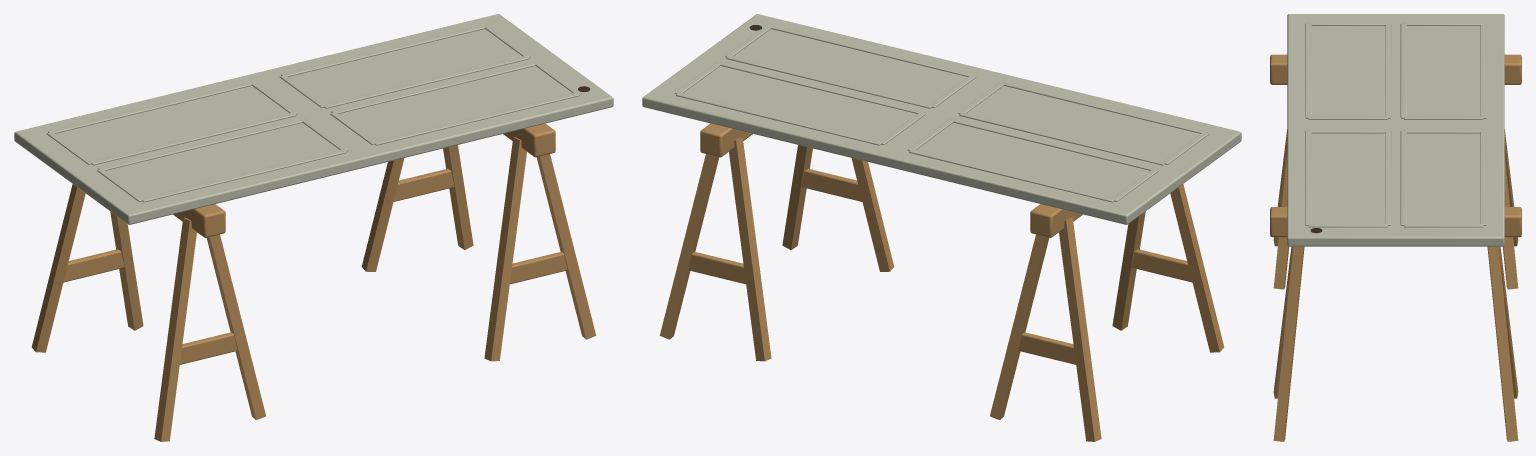
Rendered from sorting_table.fbx.
3 views of the same model, side by side, from view 1: azimuth 30°, elevation 25°; view 2: azimuth 150°, elevation 25°; view 3: azimuth 270°, elevation 25° (orthographic). The views are drawn at different scales.
Parts seen in each view (by area): view 1: sorting_table; view 2: sorting_table; view 3: sorting_table.
Boxes of the visible parts, x1,y1,x2,y2 form: sorting_table: [14, 14, 613, 441]; sorting_table: [642, 14, 1241, 441]; sorting_table: [1270, 14, 1521, 441].
Size of the model in its own units: 2 by 0.9121 by 0.95.
